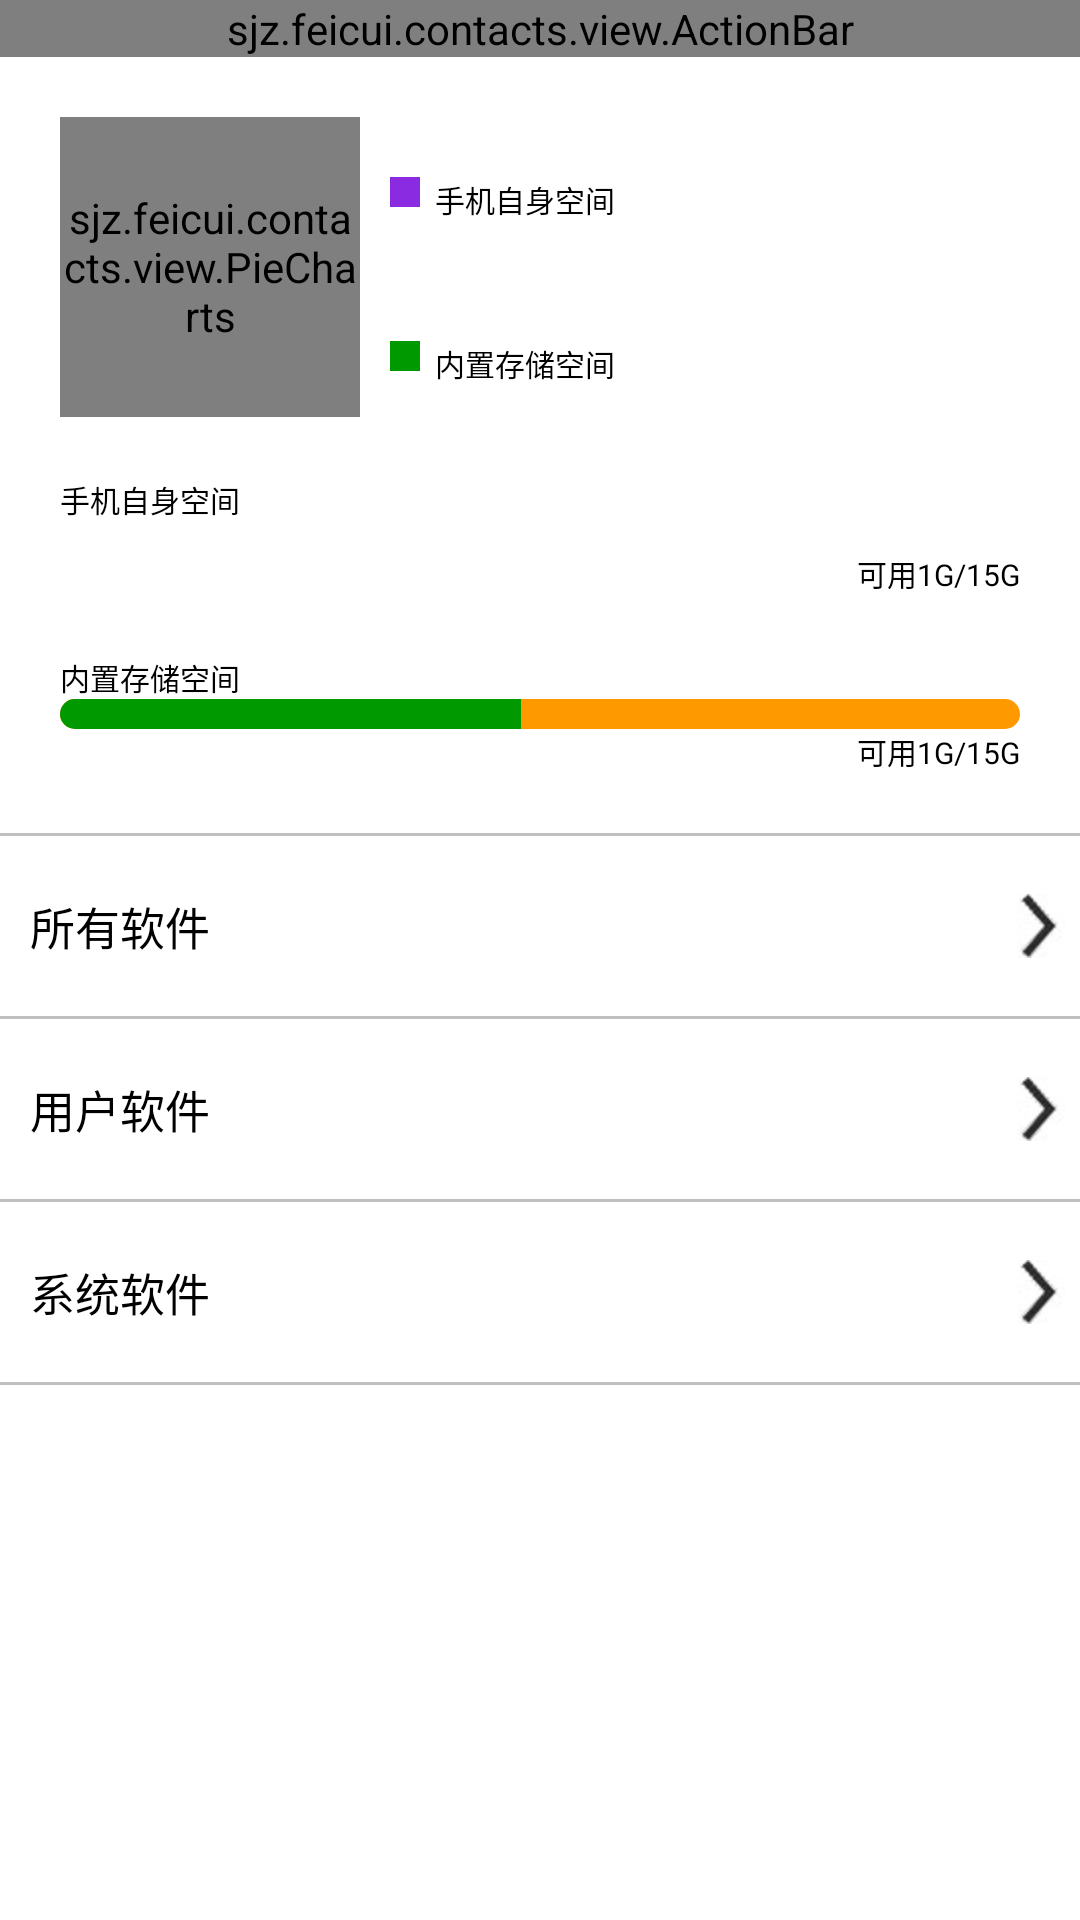

Named icons in this screenshot (1080x1920) and their centers, (x,y):
arrows right: (1039,926), (1039,1109), (1039,1292)
